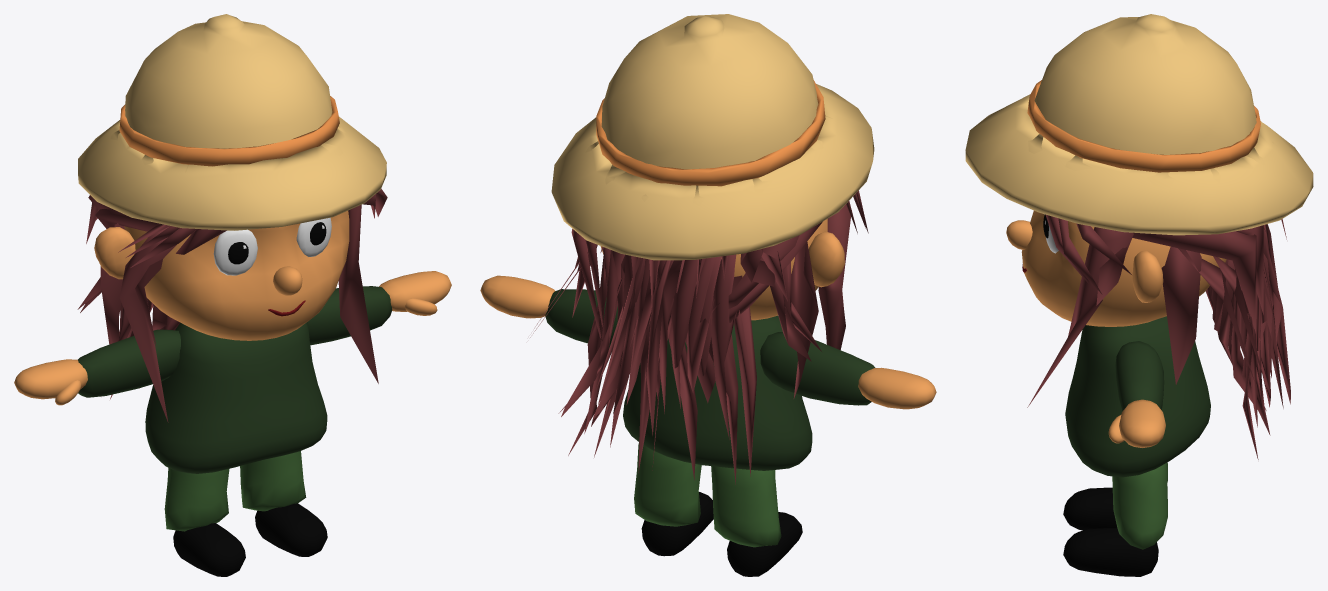
Rendered from personajeconpelo1.fbx.
3 views of the same model, side by side, from view 1: azimuth 30°, elevation 25°; view 2: azimuth 150°, elevation 25°; view 3: azimuth 270°, elevation 25° (orthographic). The views are drawn at different scales.
Parts seen in each view (by area): view 1: personaje 2; view 2: personaje 2; view 3: personaje 2.
Boxes of the visible parts, x1,y1,x2,y2 form: personaje 2: (14,14,451,576); personaje 2: (480,14,936,576); personaje 2: (965,14,1313,576).
Bounding box in the file's own units: 1118 × 1308 × 771.
